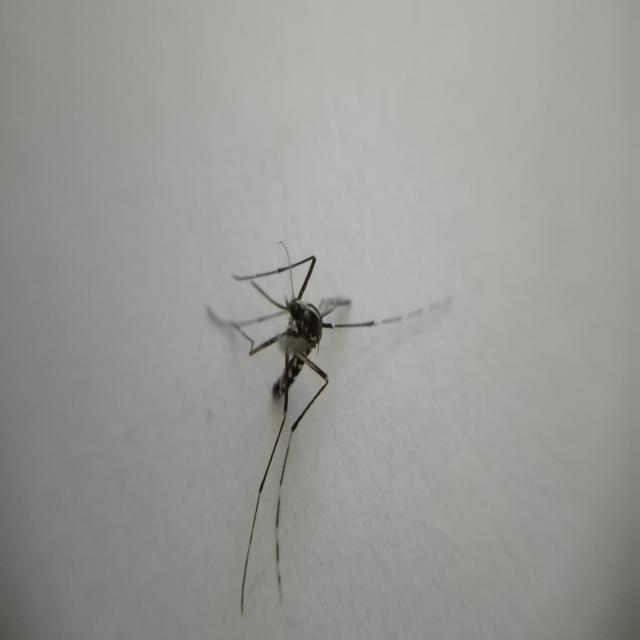albopictus: (210, 211, 422, 604)
